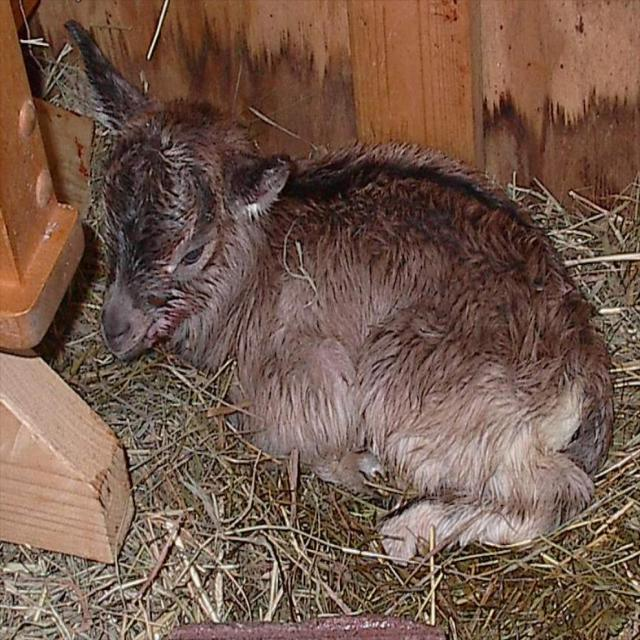Cattle: (64, 19, 616, 566)
